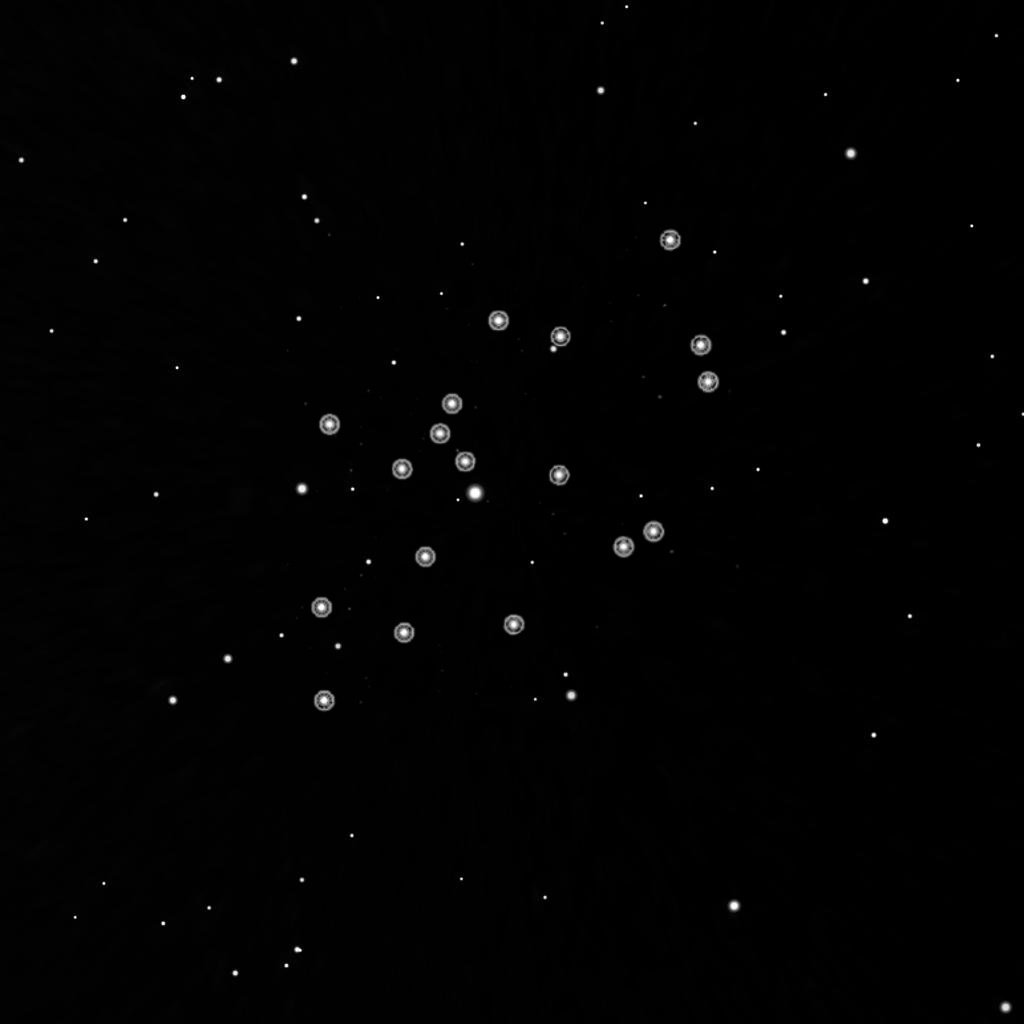canis_major: (385, 309, 574, 481)
